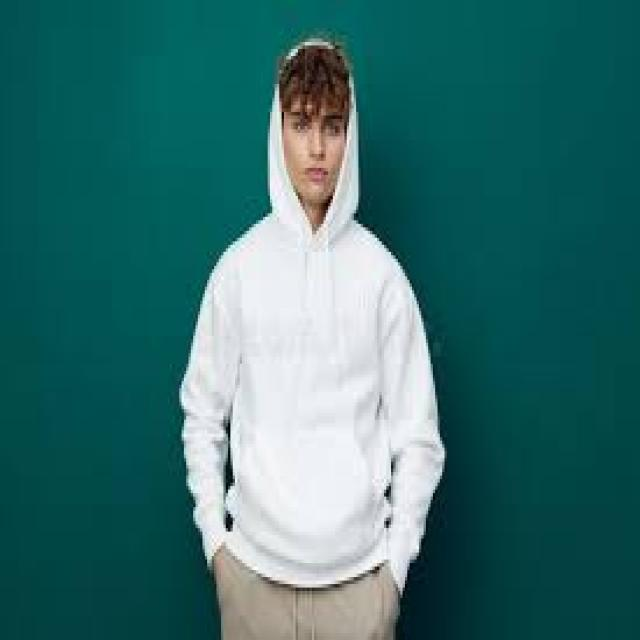4_capucha: (265, 35, 363, 248)
